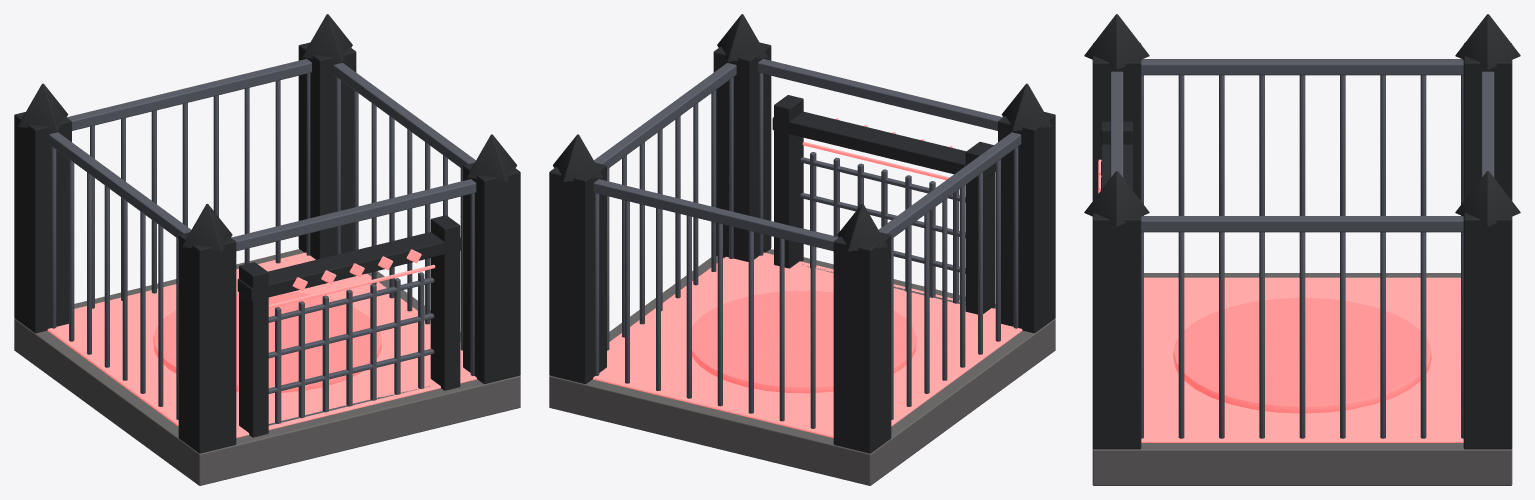
Rendered from MonsterHub_EMBER_Pit.glb.
3 renders of one model, left to right at view 1: azimuth 30°, elevation 25°; view 2: azimuth 150°, elevation 25°; view 3: azimuth 270°, elevation 25°, orthographic. The views are drawn at different scales.
Visible parts, largest first — view 1: MonsterHub_EMBER_Pit, MonsterHub_EMBER_Pit_Gate; view 2: MonsterHub_EMBER_Pit, MonsterHub_EMBER_Pit_Gate; view 3: MonsterHub_EMBER_Pit.
Part boxes in pixels (box(x1,y1,x2,y2)): MonsterHub_EMBER_Pit: box(14, 14, 520, 485); MonsterHub_EMBER_Pit_Gate: box(268, 264, 435, 425); MonsterHub_EMBER_Pit: box(549, 14, 1055, 485); MonsterHub_EMBER_Pit_Gate: box(800, 142, 965, 305); MonsterHub_EMBER_Pit: box(1084, 14, 1520, 485).
Bounding box in the file's own units: 5.41 × 4.18 × 5.41.
